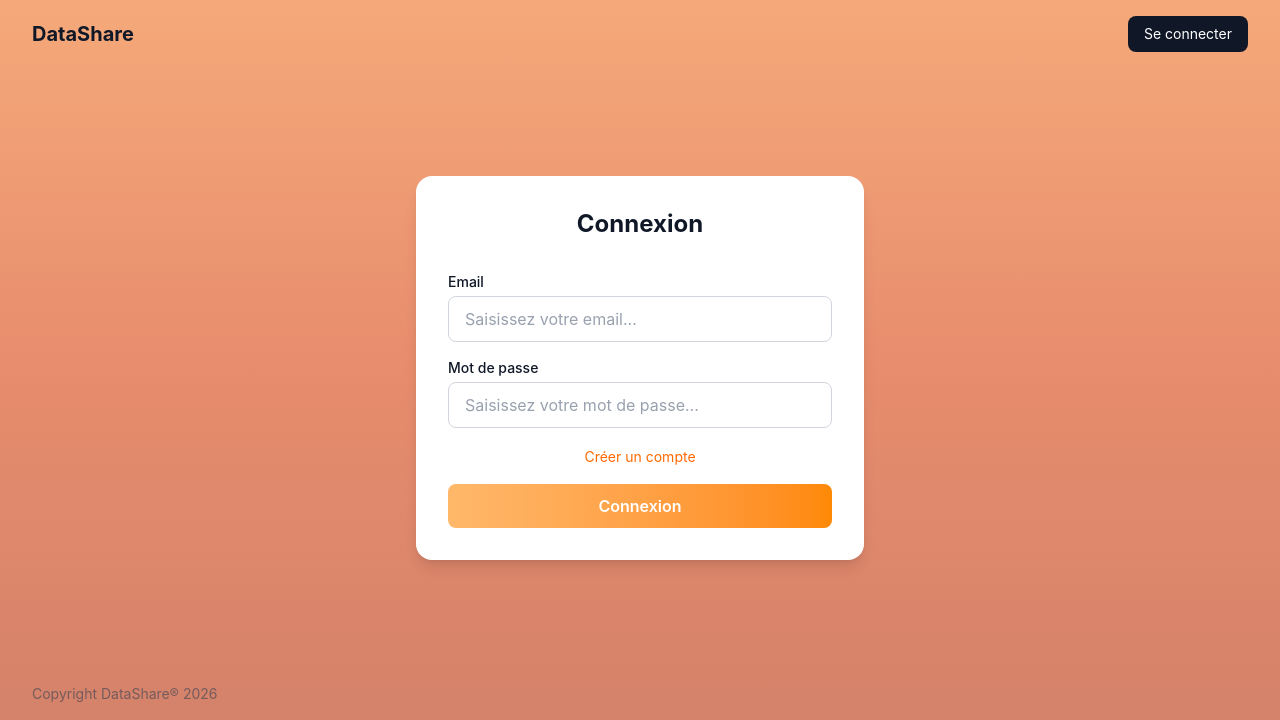
Test: Login Component (Integration) › affiche des erreurs de validation Zod si le formulaire est vide
This screenshot has width=1280, height=720.
# L'utilisateur clique directement sur "Connexion" sans rien remplir
Click the button "Connexion". click: (640, 506)
box: [448,484,832,528]
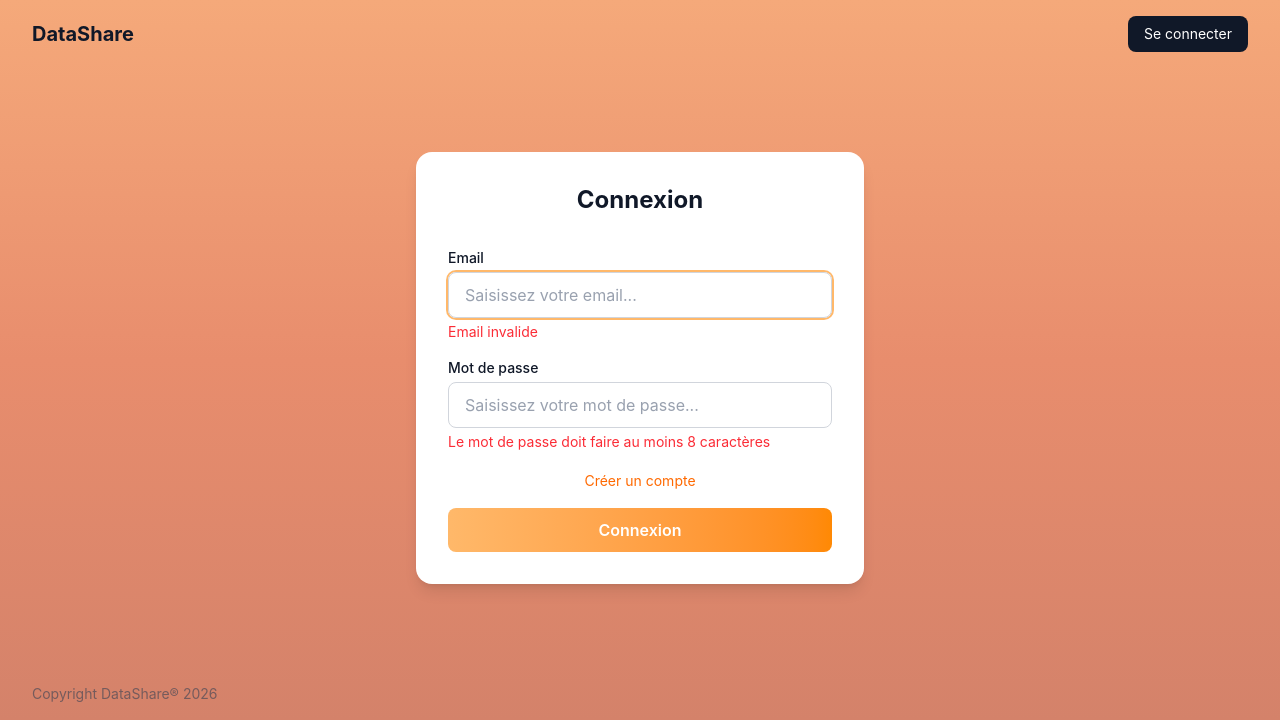
Expected: the text "Email invalide" is shown, [448,323,538,340]
